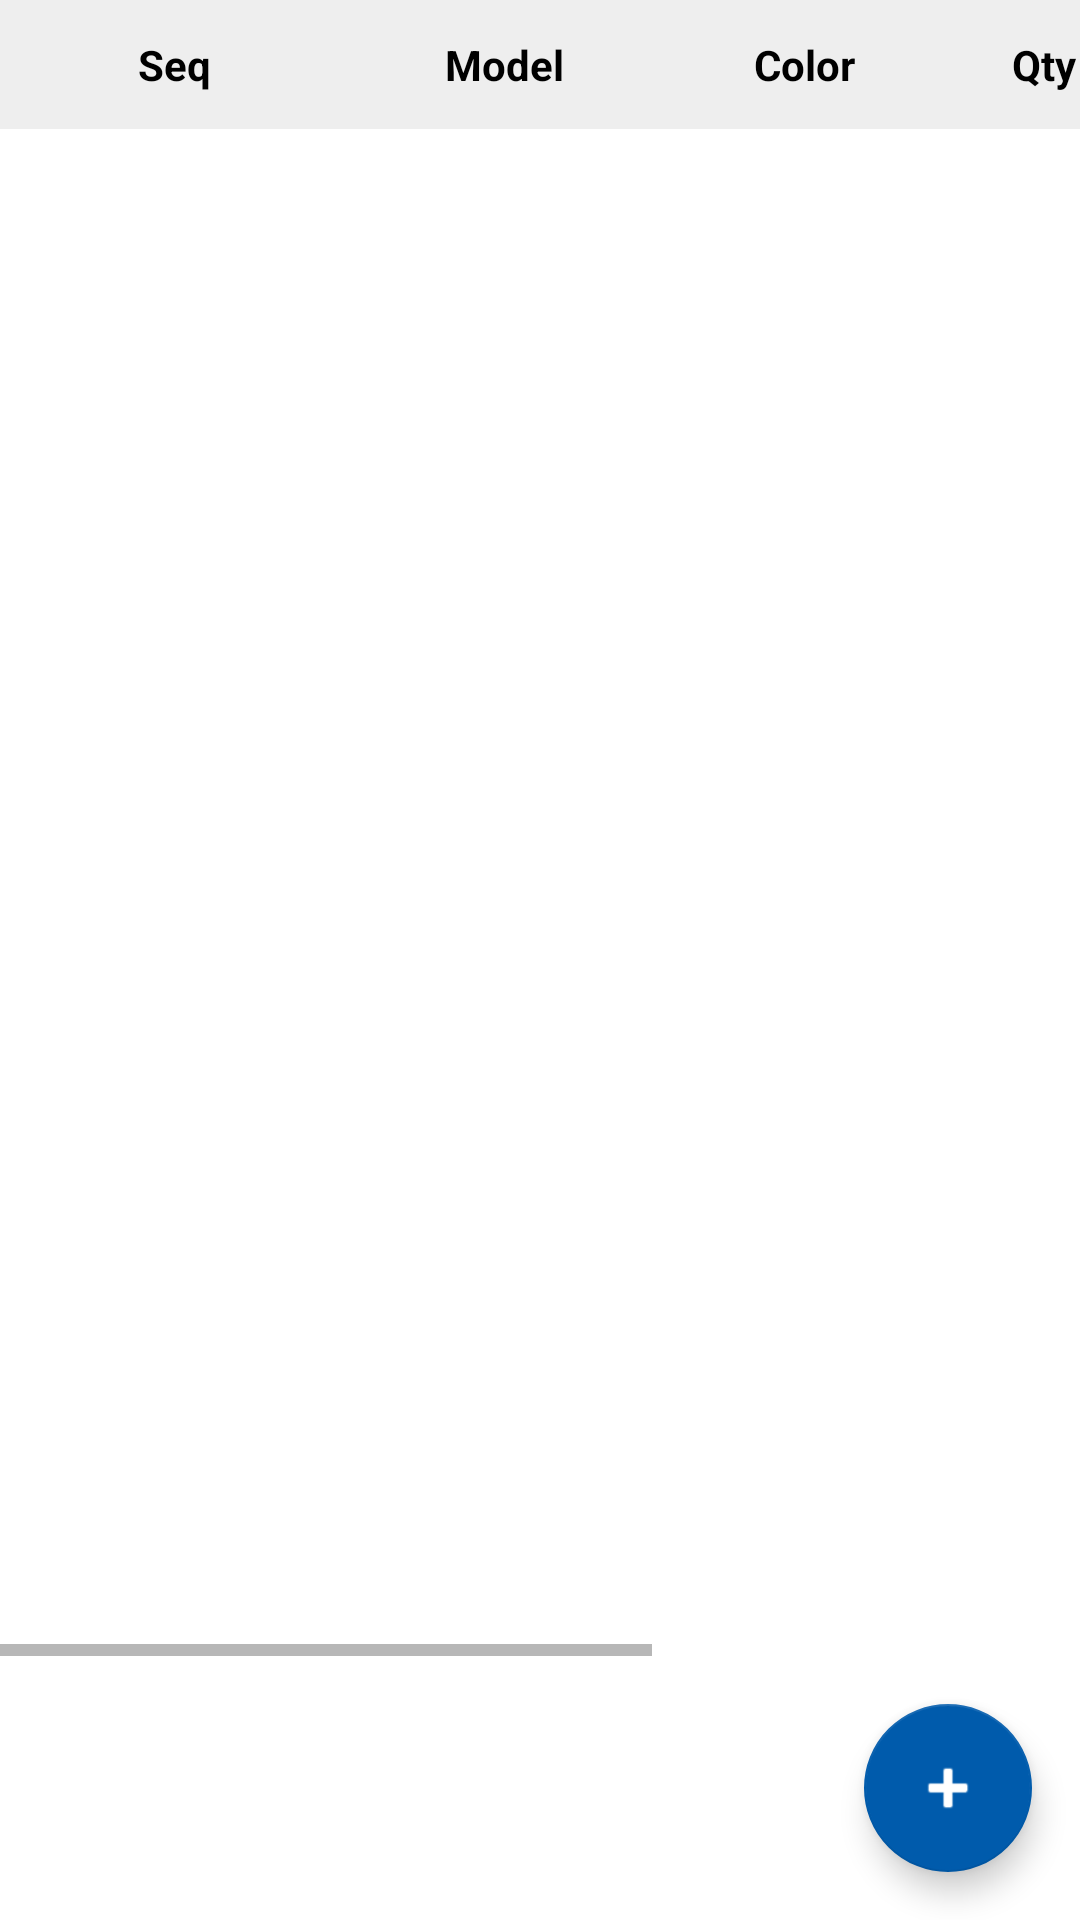

Icons on this 1080x1920 Android screen, each with its box as box=[x1, y1, x2, y2]:
Add Plan: box=[864, 1704, 1032, 1872]
